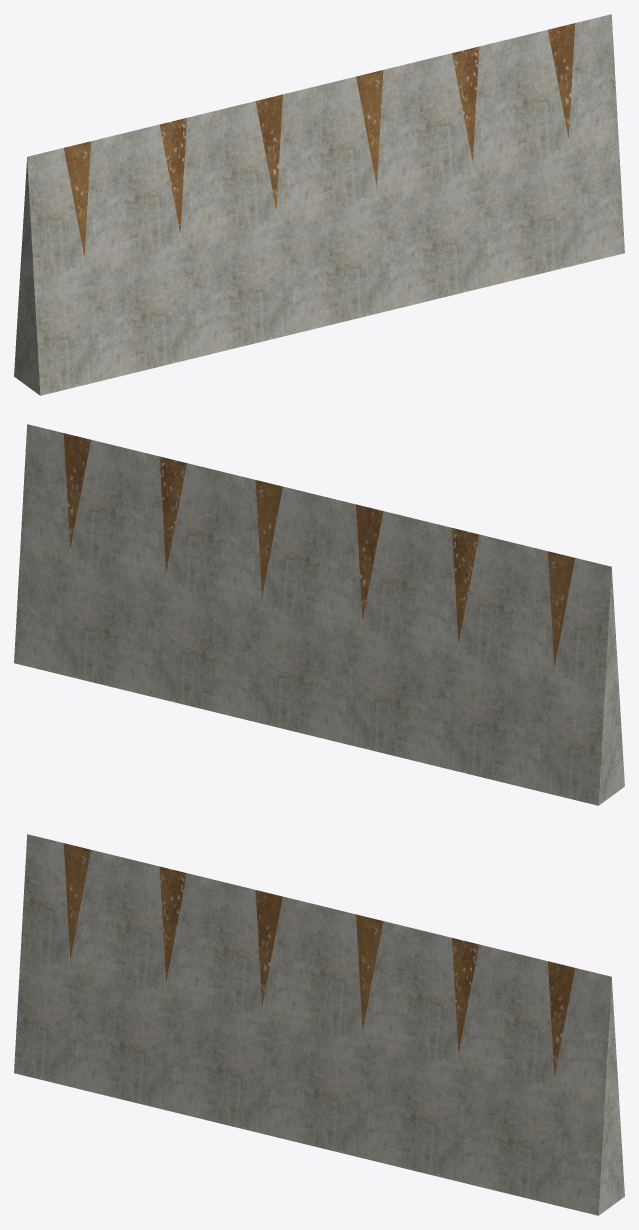
Rendered from mun_all_military_wall_weak_rebl_16_s01_l2.fbx.
3 renders of one model, top to bottom at view 1: azimuth 30°, elevation 25°; view 2: azimuth 150°, elevation 25°; view 3: azimuth 330°, elevation 25°, orthographic.
Parts seen in each view (by area): view 1: mesh_node; view 2: mesh_node; view 3: mesh_node.
Boxes of the visible parts, x1,y1,x2,y2 form: mesh_node: (14,14,624,395); mesh_node: (14,424,624,805); mesh_node: (14,834,624,1215).
Size of the model in its own units: 16 by 6 by 1.25.
